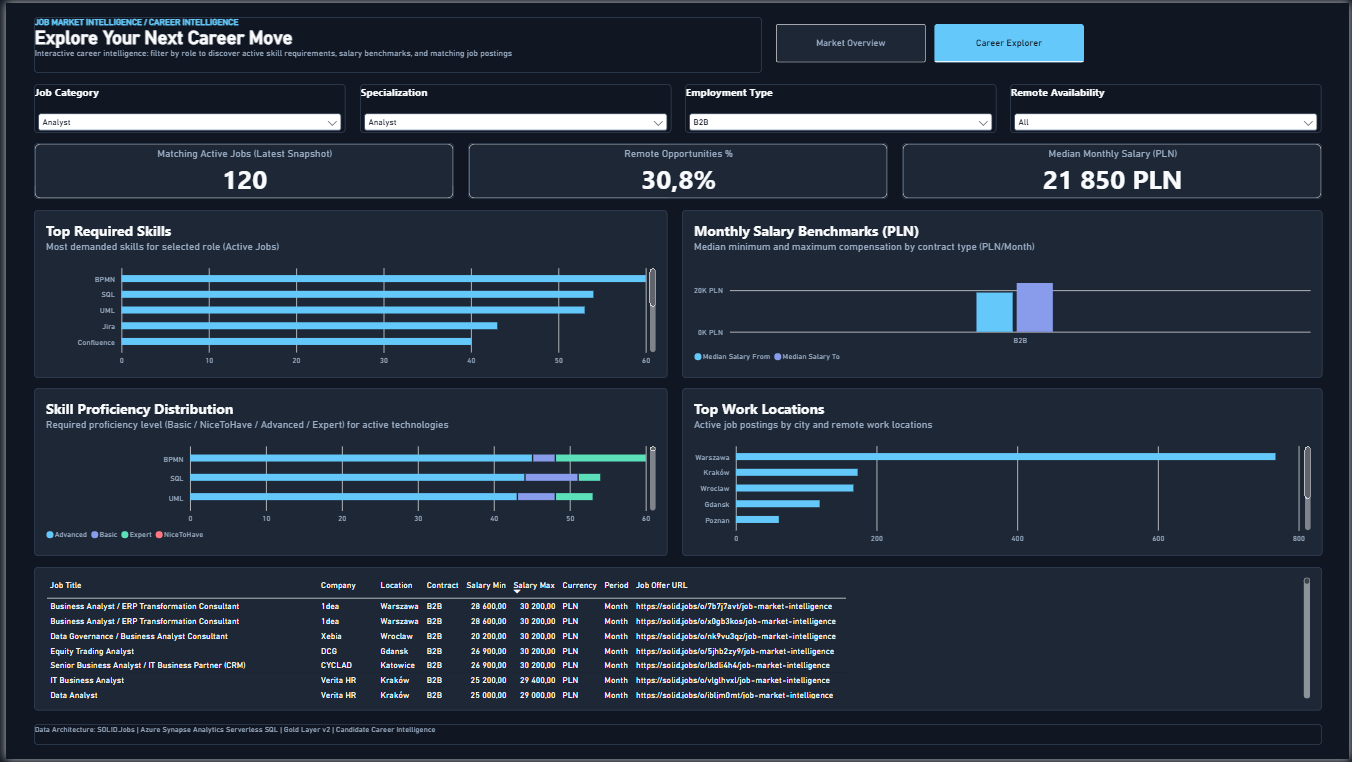

This screenshot's page, from the dashboard's own definition file:
{"tool":"powerbi","page":{"name":"Career Explorer","canvas":[1920,1080],"ordinal":1},"visuals":[{"type":"textbox","box":[40,20,1040,80],"z":100},{"type":"slicer","title":"Job Category","fields":{"Values":["vw_job_snapshots_v2.category"]},"box":[40,115,445,70],"z":200},{"type":"slicer","title":"Specialization","fields":{"Values":["vw_job_snapshots_v2.sub_category"]},"box":[505,115,445,70],"z":300},{"type":"slicer","title":"Employment Type","fields":{"Values":["vw_job_snapshots_v2.employment_type"]},"box":[970,115,445,70],"z":400},{"type":"slicer","title":"Remote Availability","fields":{"Values":["vw_job_snapshots_v2.is_remote"]},"box":[1435,115,445,70],"z":500},{"type":"cardVisual","fields":{"Data":["_Measures.Matching Active Jobs"]},"box":[40,200,600,80],"z":600},{"type":"cardVisual","fields":{"Data":["_Measures.Matching Remote Opportunities %"]},"box":[660,200,600,80],"z":700},{"type":"cardVisual","fields":{"Data":["_Measures.Median Monthly Salary (PLN)"]},"box":[1280,200,600,80],"z":800},{"type":"clusteredBarChart","title":"Top Required Skills","fields":{"Category":["vw_job_skills_v2.skill_name"],"Y":["_Measures.Active Jobs with Skill"]},"box":[40,295,905,240],"z":900},{"type":"clusteredColumnChart","title":"Monthly Salary Benchmarks (PLN)","fields":{"Category":["vw_job_snapshots_v2.employment_type"],"Y":["_Measures.Median Salary From","_Measures.Median Salary To"]},"box":[965,295,915,240],"z":1000},{"type":"barChart","title":"Skill Proficiency Distribution","fields":{"Category":["vw_job_skills_v2.skill_name"],"Series":["vw_job_skills_v2.skill_level"],"Y":["_Measures.Active Jobs with Skill"]},"box":[40,550,905,240],"z":1100},{"type":"clusteredBarChart","title":"Top Work Locations","fields":{"Category":["vw_job_locations_v2.location_name"],"Y":["_Measures.Active Jobs by Location"]},"box":[965,550,915,240],"z":1200},{"type":"tableEx","title":"Explore Matching Job Offers","fields":{"Values":["vw_job_snapshots_v2.title","vw_job_snapshots_v2.company","vw_job_locations_v2.location_name","vw_job_snapshots_v2.employment_type","vw_job_snapshots_v2.salary_from","vw_job_snapshots_v2.salary_to","vw_job_snapshots_v2.salary_currency","vw_job_snapshots_v2.salary_period","vw_job_snapshots_v2.url"]},"box":[40,805,1840,205],"z":1300},{"type":"textbox","box":[40,1030,1840,30],"z":1400},{"type":"pageNavigator","box":[1100,30,440,55],"z":1500}]}

Visuals, with their boxes in screenshot pixels (x1, y1, x2, y2), scaled from the page's 1920x1080 canvas onto the 1352x762 screenshot:
textbox: box(28, 14, 760, 71)
"Job Category" slicer: box(28, 81, 342, 131)
"Specialization" slicer: box(356, 81, 669, 131)
"Employment Type" slicer: box(683, 81, 996, 131)
"Remote Availability" slicer: box(1010, 81, 1324, 131)
cardVisual - _Measures.Matching Active Jobs: box(28, 141, 451, 198)
cardVisual - _Measures.Matching Remote Opportunities %: box(465, 141, 887, 198)
cardVisual - _Measures.Median Monthly Salary (PLN): box(901, 141, 1324, 198)
"Top Required Skills" clusteredBarChart: box(28, 208, 665, 377)
"Monthly Salary Benchmarks (PLN)" clusteredColumnChart: box(680, 208, 1324, 377)
"Skill Proficiency Distribution" barChart: box(28, 388, 665, 557)
"Top Work Locations" clusteredBarChart: box(680, 388, 1324, 557)
"Explore Matching Job Offers" tableEx: box(28, 568, 1324, 713)
textbox: box(28, 727, 1324, 748)
pageNavigator: box(775, 21, 1084, 60)
